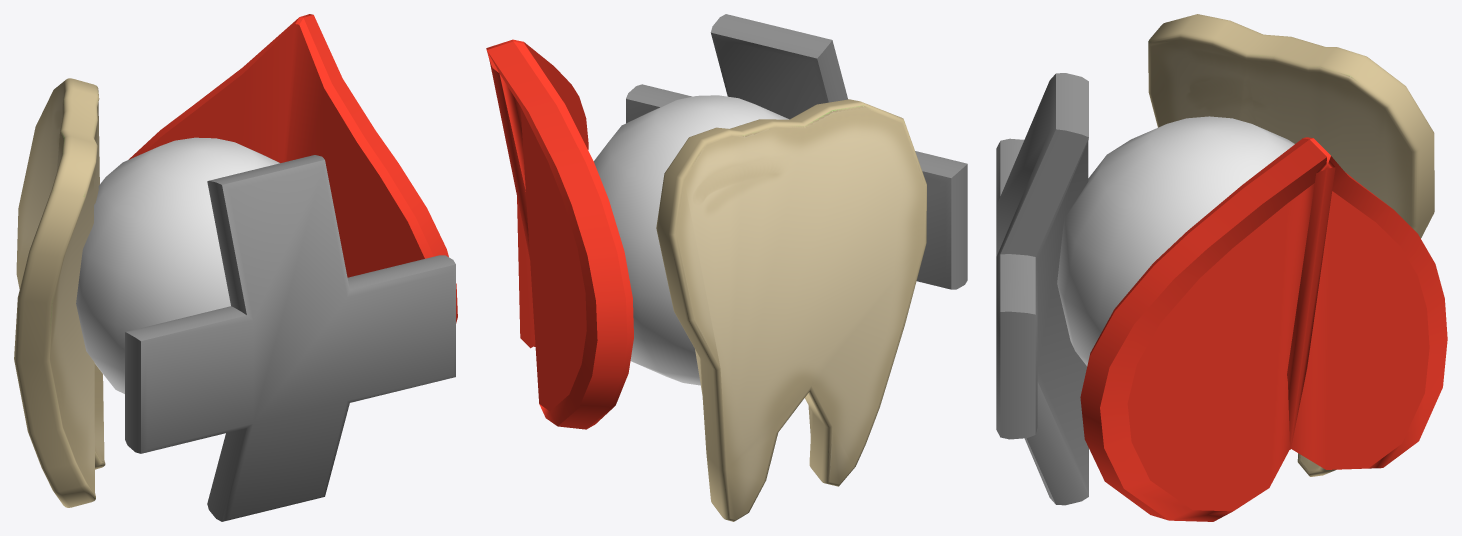
The model's file is HuisTandZorg.FBX.
3 renders of one model, left to right at view 1: azimuth 30°, elevation 25°; view 2: azimuth 150°, elevation 25°; view 3: azimuth 270°, elevation 25°, orthographic. The views are drawn at different scales.
Parts seen in each view (by area): view 1: Kruis, Tand, Hart, Sphere001; view 2: Tand, Hart, Sphere001, Kruis; view 3: Hart, Tand, Kruis, Sphere001.
Boxes of the visible parts, box(x1,y1,x2,y2) form: Kruis: box(125, 155, 455, 521); Tand: box(14, 78, 105, 507); Hart: box(128, 14, 457, 323); Sphere001: box(76, 137, 279, 393); Tand: box(656, 99, 926, 521); Hart: box(486, 39, 633, 429); Sphere001: box(594, 95, 789, 385); Kruis: box(626, 14, 967, 289); Hart: box(1080, 137, 1447, 521); Tand: box(1148, 14, 1434, 476); Kruis: box(996, 73, 1088, 505); Sphere001: box(1057, 116, 1294, 366).
Bounding box in the file's own units: 104 × 100 × 90.2.
3 materials, 2 textured.
